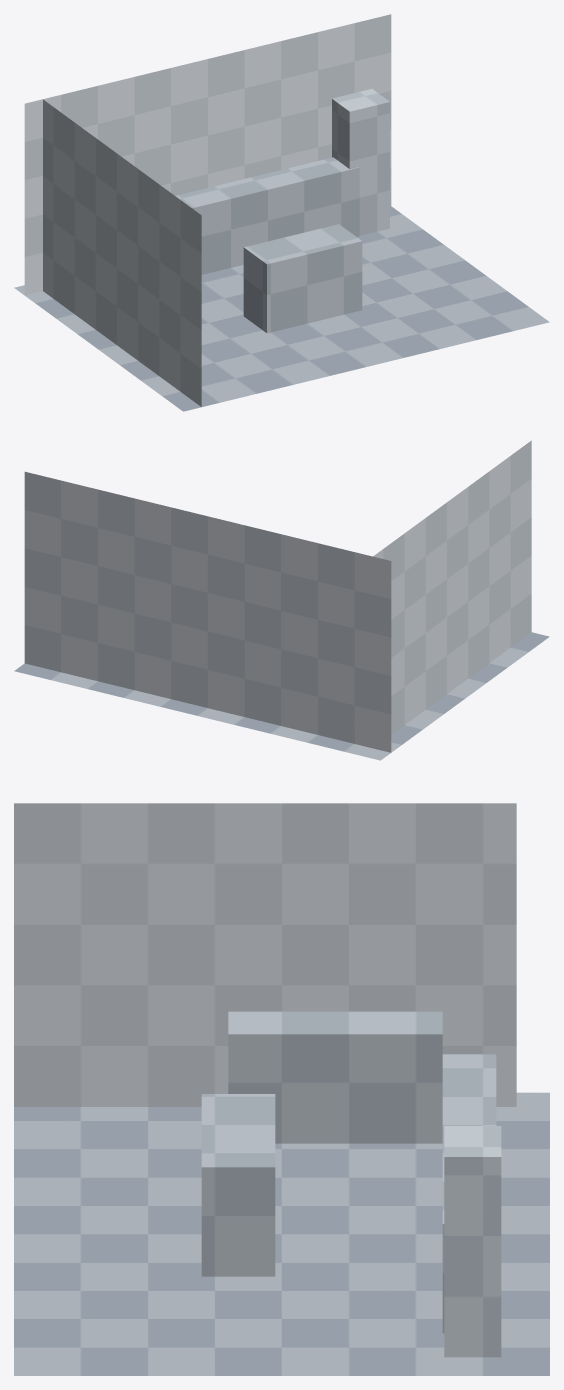
Rendered from result.glb.
3 views of the same model, one above another, from view 1: azimuth 30°, elevation 25°; view 2: azimuth 150°, elevation 25°; view 3: azimuth 270°, elevation 25° (orthographic). The views are drawn at different scales.
Parts seen in each view (by area): view 1: Viewer baked procedural surfaces; view 2: Viewer baked procedural surfaces; view 3: Viewer baked procedural surfaces.
Part boxes in pixels (box(x1,y1,x2,y2)): Viewer baked procedural surfaces: box(14, 14, 549, 411); Viewer baked procedural surfaces: box(14, 440, 549, 760); Viewer baked procedural surfaces: box(14, 803, 549, 1375).
Size of the model in its own units: 10 by 5 by 8.
4 materials, 4 textured.
